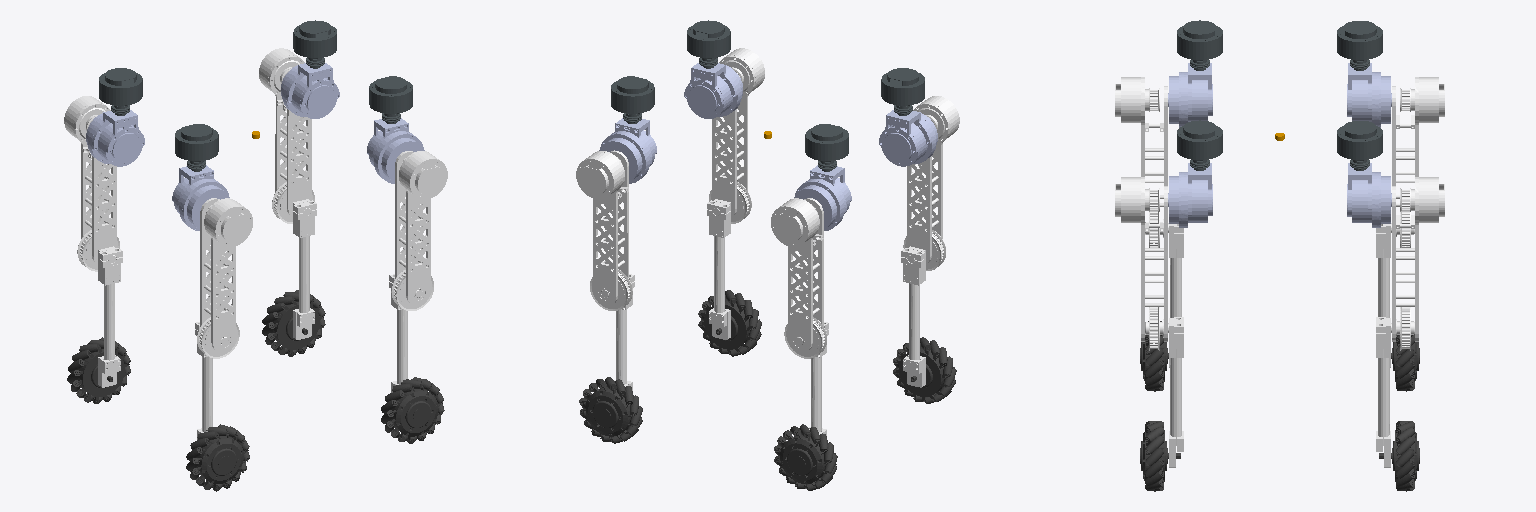
--- Render facts (derived) ---
The picture shows the robot from 3 angles, left to right: view 1: azimuth 30°, elevation 25°; view 2: azimuth 150°, elevation 25°; view 3: azimuth 270°, elevation 25°; orthographic projection.
Model wheelleg with 22 links and 21 joints (12 revolute, 4 continuous, 5 fixed), rooted at base, posed every joint at zero.
Links seen in each view (by area): view 1: RH_hp2, RF_hp2, LF_hp2, LH_hp2, RH_w, RF_w, LF_hp1, LH_hp1, LF_w, LH_w, LH_k, LF_k (+8 smaller); view 2: LH_hp2, LF_hp2, RF_hp2, RH_hp2, LF_w, LH_w, RF_hp1, RH_hp1, RF_w, RH_w, RH_k, RF_k (+8 smaller); view 3: LF_hp2, RF_hp2, LH_hp2, RH_hp2, LF_hp1, RF_hp1, LH_hp1, RH_hp1, LF_k, RF_k, RF_hr, RH_hr (+8 smaller).
Boxes of the visible links, x1,y1,x2,y2 form: RH_hp2: (197, 198, 252, 358); RF_hp2: (391, 151, 447, 310); LF_hp2: (259, 48, 314, 223); LH_hp2: (64, 96, 119, 271); RH_w: (186, 424, 249, 491); RF_w: (381, 377, 444, 443); LF_hp1: (281, 63, 339, 118); LH_hp1: (86, 110, 144, 166); LF_w: (262, 290, 325, 356); LH_w: (67, 337, 130, 403); LH_k: (98, 246, 122, 387); LF_k: (293, 199, 316, 339); LH_hp2: (771, 198, 826, 358); LF_hp2: (576, 150, 632, 310); RF_hp2: (709, 48, 764, 223); RH_hp2: (903, 96, 959, 270); LF_w: (579, 377, 642, 443); LH_w: (774, 424, 837, 490); RF_hp1: (684, 63, 742, 118); RH_hp1: (879, 110, 937, 166); RF_w: (698, 290, 761, 356); RH_w: (893, 337, 956, 403); RH_k: (901, 246, 925, 387); RF_k: (707, 199, 730, 339); LF_hp2: (1391, 177, 1444, 350); RF_hp2: (1115, 177, 1168, 350); LH_hp2: (1391, 77, 1444, 247); RH_hp2: (1115, 77, 1168, 247); LF_hp1: (1347, 163, 1391, 227); RF_hp1: (1168, 163, 1212, 227); LH_hp1: (1347, 63, 1391, 127); RH_hp1: (1168, 63, 1212, 127); LF_k: (1376, 317, 1390, 467); RF_k: (1169, 317, 1183, 467); RF_hr: (1177, 120, 1222, 170); RH_hr: (1177, 20, 1222, 70).
Bounding box of the posed robot: 0.6534 × 0.6995 × 0.8457 m (x, y, z).
Meshes: 11 distinct files referenced, 20 mesh visuals loaded (10 binary STL); not drawn: 1 (reference not matched to a file when rendering).

URDF robot description (wheelleg):
<?xml version="1.0" encoding="utf-8"?>
<!-- This URDF was automatically created by SolidWorks to URDF Exporter! Originally created by Stephen Brawner ([email redacted]) 
     Commit Version: 1.6.0-4-g7f85cfe  Build Version: 1.6.7995.38578
     For more information, please see http://wiki.ros.org/sw_urdf_exporter -->
<robot
  name="wheelleg">
  

  <!-- Body -->

  <link name="base">
			<visual>
				<geometry>
					<cylinder length="0.01" radius="0.01"/>
				</geometry>
			</visual>
		</link>

  <joint name="floating_base" type="fixed">
			<origin xyz="0 0 0" rpy="0 0 0"/>
			<parent link="base"/>
			<child link="base_link"/>
		</joint>


  <link
    name="base_link">
    <inertial>
      <origin
        xyz="-0.031757 0.00040855 0.053605"
        rpy="0.10472 0 0" />
      <mass
        value="5.462" />
      <inertia
	        ixx="0.045255813"
            ixy="-0.001482582"
            ixz="0.001451185"
            iyy="0.174493725"
            iyz="-0.000661239"
            izz="0.168306918"/>
    </inertial>
    <visual>
      <origin
        xyz="0 0 0"
        rpy="0 0 0" />
      <geometry>
        <mesh
          filename="package://wheelleg_description_ver15/meshes/base_link.STL" />
      </geometry>
      <material
        name="">
        <color
          rgba="0.7451 0.73725 0.72941 1" />
      </material>
    </visual>
    <collision>
      <origin
        xyz="0 0 0"
        rpy="0 0 0" />
      <geometry>
        <mesh
          filename="package://wheelleg_description_ver15/meshes/base_link.STL" />
      </geometry>
    </collision>
  </link>


  <!-- LF (Left Front leg) -->

  <link
    name="LF_hr">
    <inertial>
      <origin
        xyz="-0.00064 -0.00902 -0.02338"
        rpy="0 0 0" />
      <mass
        value="1.262" />
      <inertia
        ixx="0.002145988"
        ixy="0.000001667"
        ixz="7.52E-07"
        iyy="0.00149516"
        iyz="-0.000381063"
        izz="0.001987437" />
    </inertial>
    <visual>
      <origin
        xyz="0 0 0"
        rpy="0 0 0" />
      <geometry>
        <mesh
          filename="package://wheelleg_description_ver15/meshes/LF_hr.STL" />
      </geometry>
      <material
        name="">
        <color
          rgba="0.352941176470588 0.384313725490196 0.4 1" />
      </material>
    </visual>
    <collision>
      <origin
        xyz="0 0 0"
        rpy="0 0 0" />
      <geometry>
        <mesh
          filename="package://wheelleg_description_ver15/meshes/LF_hr.STL" />
      </geometry>
    </collision>
  </link>
  <joint
    name="LF_hr_joint"
    type="revolute">
    <origin
      xyz="0.25142 0.170 0.0660"
      rpy="0 3.1416 0" />
    <parent
      link="base_link" />
    <child
      link="LF_hr" />
    <axis
      xyz="0 0 1" />
    <limit
      lower="-1.57"
      upper="1.57"
      effort="48.0"
      velocity="5.0" />
  </joint>
  <link
    name="LF_hp1">
    <inertial>
      <origin
        xyz="0.00424 0 -0.07862"
        rpy="3.1416 0 0" />
      <mass
        value="2.017" />
      <inertia
        ixx="0.002812305"
        ixy="-0.000001194"
        ixz="-0.000001182"
        iyy="0.003113101"
        iyz="0.000222405"
        izz="0.002478391" />
    </inertial>
    <visual>
      <origin
        xyz="0 0 0"
        rpy="0 0 0" />
      <geometry>
        <mesh
          filename="package://wheelleg_description_ver15/meshes/LF_hp1.STL" />
      </geometry>
      <material
        name="">
        <color
          rgba="0.792156862745098 0.819607843137255 0.933333333333333 1" />
      </material>
    </visual>
    <collision>
      <origin
        xyz="0 0 0"
        rpy="0 0 0" />
      <geometry>
        <mesh
          filename="package://wheelleg_description_ver15/meshes/LF_hp1.STL" />
      </geometry>
    </collision>
  </link>
  <joint
    name="LF_hp1_joint"
    type="fixed">
    <origin
      xyz="0 0.06785 0.0975"
      rpy="-1.5708 -1.5708 0" />
    <parent
      link="LF_hr" />
    <child
      link="LF_hp1" />
  </joint>
  <link
    name="LF_hp2">
    <inertial>
      <origin
        xyz="0.12288 -0.000057 0.04567"
        rpy="3.1416 1.57 -0.12083" />
      <mass
        value="2.510" />
      <inertia
        ixx="0.046167112"
        ixy="0.000008451"
        ixz="0.000065646"
        iyy="0.044879746"
        iyz="-0.005843479"
        izz="0.003323929" />
    </inertial>
    <visual>
      <origin
        xyz="0 0 0"
        rpy="0 0 0" />
      <geometry>
        <mesh
          filename="package://wheelleg_description_ver15/meshes/LF_hp2.STL" />
      </geometry>
      <material
        name="">
        <color
          rgba="0.996078431372549 0.996078431372549 1 1" />
      </material>
    </visual>
    <collision>
      <origin
        xyz="0 0 0"
        rpy="0 0 0" />
      <geometry>
        <mesh
          filename="package://wheelleg_description_ver15/meshes/LF_hp2.STL" />
      </geometry>
    </collision>
  </link>
  <joint
    name="LF_hp2_joint"
    type="revolute">
    <origin
      xyz="0 0 0"
      rpy="0 0 0" />
    <parent
      link="LF_hp1" />
    <child
      link="LF_hp2" />
    <axis
      xyz="0 0 1" />
    <limit
      lower="-2.0944"
      upper="2.0944"
      effort="76.8"
      velocity="5.0" />
  </joint>
  <link
    name="LF_k">
    <inertial>
      <origin
        xyz="0.12603 -0.00006 0.04368"
        rpy="3.1416 1.57 0" />
      <mass
        value="0.377" />
      <inertia
        ixx="0.005710257"
        ixy="-1.64E-07"
        ixz="0.000006887"
        iyy="0.00573476"
        iyz="0.000095835"
        izz="0.000092113" />
    </inertial>
    <visual>
      <origin
        xyz="0 0 0"
        rpy="0 0 0" />
      <geometry>
        <mesh
          filename="package://wheelleg_description_ver15/meshes/LF_k.STL" />
      </geometry>
      <material
        name="">
        <color
          rgba="0.996078431372549 0.996078431372549 1 1" />
      </material>
    </visual>
    <collision>
      <origin
        xyz="0 0 0"
        rpy="0 0 0" />
      <geometry>
        <mesh
          filename="package://wheelleg_description_ver15/meshes/LF_k.STL" />
      </geometry>
    </collision>
  </link>
  <joint
    name="LF_k_joint"
    type="revolute">
    <origin
      xyz="0.3 0 0.029"
      rpy="3.1416 0 0" />
    <parent
      link="LF_hp2" />
    <child
      link="LF_k" />
    <axis
      xyz="0 0 1" />
    <limit
      lower="-2.4434"
      upper="2.4434"
      effort="48"
      velocity="5.0" />
  </joint>
  <link
    name="LF_w">
    <inertial>
      <origin
        xyz="0.00004 -0.00008 0.00188"
        rpy="1.57 0 0.7854" />
      <mass
        value="1.608" />
      <inertia
        ixx="0.002039438"
        ixy="-0.000002629"
        ixz="-9E-09"
        iyy="0.003524325"
        iyz="0.000001415"
        izz="0.002039435" />
    </inertial>
    <visual>
      <origin
        xyz="0 0 0"
        rpy="0 0 0" />
      <geometry>
        <mesh
          filename="package://wheelleg_description_ver15/meshes/LF_w.STL" />
      </geometry>
      <material
        name="">
        <color
          rgba="0.313725490196078 0.313725490196078 0.313725490196078 1" />
      </material>
    </visual>
    <collision>
      <origin
        xyz="0 0 0"
        rpy="0 0 0" />
      <geometry>
        <mesh
          filename="package://wheelleg_description_ver15/meshes/LF_w.STL" />
      </geometry>
    </collision>
  </link>
  <joint
    name="LF_w_joint"
    type="continuous">
    <origin
      xyz="0.3 0 0"
      rpy="3.1416 0 0" />
    <parent
      link="LF_k" />
    <child
      link="LF_w" />
    <axis
      xyz="0 0 1" />
  </joint>


  <!-- RF (Right Front leg) -->

  <link
    name="RF_hr">
    <inertial>
      <origin
        xyz="0.00064 0.00902 -0.02338"
        rpy="0 0 0" />
      <mass
        value="1.262" />
      <inertia
        ixx="0.002145988"
        ixy="0.000001667"
        ixz="-7.52E-07"
        iyy="0.00149516"
        iyz="0.000381063"
        izz="0.001987437" />
    </inertial>
    <visual>
      <origin
        xyz="0 0 0"
        rpy="0 0 0" />
      <geometry>
        <mesh
          filename="package://wheelleg_description_ver15/meshes/RF_hr.STL" />
      </geometry>
      <material
        name="">
        <color
          rgba="0.352941176470588 0.384313725490196 0.4 1" />
      </material>
    </visual>
    <collision>
      <origin
        xyz="0 0 0"
        rpy="0 0 0" />
      <geometry>
        <mesh
          filename="package://wheelleg_description_ver15/meshes/RF_hr.STL" />
      </geometry>
    </collision>
  </link>
  <joint
    name="RF_hr_joint"
    type="revolute">
    <origin
      xyz="0.25142 -0.170 0.0660"
      rpy="0 3.1416 0" />
    <parent
      link="base_link" />
    <child
      link="RF_hr" />
    <axis
      xyz="0 0 1" />
    <limit
      lower="-1.57"
      upper="1.57"
      effort="48"
      velocity="5.0" />
  </joint>
  <link
    name="RF_hp1">
    <inertial>
      <origin
        xyz="0.00424 0 0.07862"
        rpy="3.1416 0 0" />
      <mass
        value="2.017" />
      <inertia
        ixx="0.002812305"
        ixy="-0.000001194"
        ixz="0.000001182"
        iyy="0.003113101"
        iyz="-0.000222405"
        izz="0.002478391" />
    </inertial>
    <visual>
      <origin
        xyz="0 0 0"
        rpy="0 0 0" />
      <geometry>
        <mesh
          filename="package://wheelleg_description_ver15/meshes/RF_hp1.STL" />
      </geometry>
      <material
        name="">
        <color
          rgba="0.792156862745098 0.819607843137255 0.933333333333333 1" />
      </material>
    </visual>
    <collision>
      <origin
        xyz="0 0 0"
        rpy="0 0 0" />
      <geometry>
        <mesh
          filename="package://wheelleg_description_ver15/meshes/RF_hp1.STL" />
      </geometry>
    </collision>
  </link>
  <joint
    name="RF_hp1_joint"
    type="fixed">
    <origin
      xyz="0 -0.06785 0.0975"
      rpy="-1.5708 -1.5708 0" />
    <parent
      link="RF_hr" />
    <child
      link="RF_hp1" />
  </joint>
  <link
    name="RF_hp2">
    <inertial>
      <origin
        xyz="0.12288 -0.000057 -0.04567"
        rpy="3.1416 1.57 0.12083" />
      <mass
        value="2.510" />
      <inertia
        ixx="0.046167112"
        ixy="-0.000008451"
        ixz="0.000065646"
        iyy="0.044879746"
        iyz="0.005843479"
        izz="0.003323929" />
    </inertial>
    <visual>
      <origin
        xyz="0 0 0"
        rpy="0 0 0" />
      <geometry>
        <mesh
          filename="package://wheelleg_description_ver15/meshes/RF_hp2.STL" />
      </geometry>
      <material
        name="">
        <color
          rgba="0.996078431372549 0.996078431372549 1 1" />
      </material>
    </visual>
    <collision>
      <origin
        xyz="0 0 0"
        rpy="0 0 0" />
      <geometry>
        <mesh
          filename="package://wheelleg_description_ver15/meshes/RF_hp2.STL" />
      </geometry>
    </collision>
  </link>
  <joint
    name="RF_hp2_joint"
    type="revolute">
    <origin
      xyz="0 0 0"
      rpy="0 0 0" />
    <parent
      link="RF_hp1" />
    <child
      link="RF_hp2" />
    <axis
      xyz="0 0 1" />
    <limit
      lower="-2.0944"
      upper="2.0944"
      effort="76.8"
      velocity="5.0" />
  </joint>
  <link
    name="RF_k">
    <inertial>
      <origin
        xyz="0.12603 0.00006 -0.04368"
        rpy="3.1416 1.57 0" />
      <mass
        value="0.377" />
      <inertia
        ixx="0.005710257"
        ixy="1.64E-07"
        ixz="0.000006887"
        iyy="0.00573476"
        iyz="-0.000095835"
        izz="0.000092113" />
    </inertial>
    <visual>
      <origin
        xyz="0 0 0"
        rpy="0 0 0" />
      <geometry>
        <mesh
          filename="package://wheelleg_description_ver15/meshes/RF_k.STL" />
      </geometry>
      <material
        name="">
        <color
          rgba="0.996078431372549 0.996078431372549 1 1" />
      </material>
    </visual>
    <collision>
      <origin
        xyz="0 0 0"
        rpy="0 0 0" />
      <geometry>
        <mesh
          filename="package://wheelleg_description_ver15/meshes/RF_k.STL" />
      </geometry>
    </collision>
  </link>
  <joint
    name="RF_k_joint"
    type="revolute">
    <origin
      xyz="0.3 0 -0.029"
      rpy="3.1416 0 0" />
    <parent
      link="RF_hp2" />
    <child
      link="RF_k" />
    <axis
      xyz="0 0 1" />
    <limit
      lower="-2.4434"
      upper="2.4434"
      effort="48"
      velocity="5.0" />
  </joint>
  <link
    name="RF_w">
    <inertial>
      <origin
        xyz="0.00004 0.00008 -0.00188"
        rpy="1.57 0 0.7854" />
      <mass
        value="1.608" />
      <inertia
        ixx="0.002039438"
        ixy="-0.000002629"
        ixz="9E-09"
        iyy="0.003524325"
        iyz="0.000001415"
        izz="0.002039435" />
    </inertial>
    <visual>
      <origin
        xyz="0 0 0"
        rpy="0 0 0" />
      <geometry>
        <mesh
          filename="package://wheelleg_description_ver15/meshes/RF_w.STL" />
      </geometry>
      <material
        name="">
        <color
          rgba="0.313725490196078 0.313725490196078 0.313725490196078 1" />
      </material>
    </visual>
    <collision>
      <origin
        xyz="0 0 0"
        rpy="0 0 0" />
      <geometry>
        <mesh
          filename="package://wheelleg_description_ver15/meshes/RF_w.STL" />
      </geometry>
    </collision>
  </link>
  <joint
    name="RF_w_joint"
    type="continuous">
    <origin
      xyz="0.3 0 0"
      rpy="3.1416 0 0" />
    <parent
      link="RF_k" />
    <child
      link="RF_w" />
    <axis
      xyz="0 0 1" />
  </joint>


  <!-- LH (Left Hind leg) -->

  <link
    name="LH_hr">
    <inertial>
      <origin
        xyz="-0.00064 -0.00902 -0.02338"
        rpy="0 0 0" />
      <mass
        value="1.262" />
      <inertia
        ixx="0.002145988"
        ixy="0.000001667"
        ixz="7.52E-07"
        iyy="0.00149516"
        iyz="-0.000381063"
        izz="0.001987437" />
    </inertial>
    <visual>
      <origin
        xyz="0 0 0"
        rpy="0 0 0" />
      <geometry>
        <mesh
          filename="package://wheelleg_description_ver15/meshes/LF_hr.STL" />
      </geometry>
      <material
        name="">
        <color
          rgba="0.352941176470588 0.384313725490196 0.4 1" />
      </material>
    </visual>
    <collision>
      <origin
        xyz="0 0 0"
        rpy="0 0 0" />
      <geometry>
        <mesh
          filename="package://wheelleg_description_ver15/meshes/LF_hr.STL" />
      </geometry>
    </collision>
  </link>
  <joint
    name="LH_hr_joint"
    type="revolute">
    <origin
      xyz="-0.25142 0.170 0.0660"
      rpy="0 3.1416 0" />
    <parent
      link="base_link" />
    <child
      link="LH_hr" />
    <axis
      xyz="0 0 1" />
    <limit
      lower="-1.57"
      upper="1.57"
      effort="48.0"
      velocity="5.0" />
  </joint>
  <link
    name="LH_hp1">
    <inertial>
      <origin
        xyz="0.00424 0 -0.07862"
        rpy="3.1416 0 0" />
      <mass
        value="2.017" />
      <inertia
        ixx="0.002812305"
        ixy="-0.000001194"
        ixz="-0.000001182"
        iyy="0.003113101"
        iyz="0.000222405"
        izz="0.002478391" />
    </inertial>
    <visual>
      <origin
        xyz="0 0 0"
        rpy="0 0 0" />
      <geometry>
        <mesh
          filename="package://wheelleg_description_ver15/meshes/LF_hp1.STL" />
      </geometry>
      <material
        name="">
        <color
          rgba="0.792156862745098 0.819607843137255 0.933333333333333 1" />
      </material>
    </visual>
    <collision>
      <origin
        xyz="0 0 0"
        rpy="0 0 0" />
      <geometry>
        <mesh
          filename="package://wheelleg_description_ver15/meshes/LF_hp1.STL" />
      </geometry>
    </collision>
  </link>
  <joint
    name="LH_hp1_joint"
    type="fixed">
    <origin
      xyz="0 0.06785 0.0975"
      rpy="-1.5708 -1.5708 0" />
    <parent
      link="LH_hr" />
    <child
      link="LH_hp1" />
  </joint>
  <link
    name="LH_hp2">
    <inertial>
      <origin
        xyz="0.12288 -0.000057 0.04567"
        rpy="3.1416 1.57 -0.12083" />
      <mass
        value="2.510" />
      <inertia
        ixx="0.046167112"
        ixy="0.000008451"
        ixz="0.000065646"
        iyy="0.044879746"
        iyz="-0.005843479"
        izz="0.003323929" />
    </inertial>
    <visual>
      <origin
        xyz="0 0 0"
        rpy="0 0 0" />
      <geometry>
        <mesh
          filename="package://wheelleg_description_ver15/meshes/LF_hp2.STL" />
      </geometry>
      <material
        name="">
        <color
          rgba="0.996078431372549 0.996078431372549 1 1" />
      </material>
    </visual>
    <collision>
      <origin
        xyz="0 0 0"
        rpy="0 0 0" />
      <geometry>
        <mesh
          filename="package://wheelleg_description_ver15/meshes/LF_hp2.STL" />
      </geometry>
    </collision>
  </link>
  <joint
    name="LH_hp2_joint"
    type="revolute">
    <origin
      xyz="0 0 0"
      rpy="0 0 0" />
    <parent
      link="LH_hp1" />
    <child
      link="LH_hp2" />
    <axis
      xyz="0 0 1" />
    <limit
      lower="-2.0944"
      upper="2.0944"
      effort="76.8"
      velocity="5.0" />
  </joint>
  <link
    name="LH_k">
    <inertial>
      <origin
        xyz="0.12603 -0.00006 0.04368"
        rpy="3.1416 1.57 0" />
      <mass
        value="0.377" />
      <inertia
        ixx="0.005710257"
        ixy="-1.64E-07"
        ixz="0.000006887"
        iyy="0.00573476"
        iyz="0.000095835"
        izz="0.000092113" />
    </inertial>
    <visual>
      <origin
        xyz="0 0 0"
        rpy="0 0 0" />
      <geometry>
        <mesh
          filename="package://wheelleg_description_ver15/meshes/LF_k.STL" />
      </geometry>
      <material
        name="">
        <color
          rgba="0.996078431372549 0.996078431372549 1 1" />
      </material>
    </visual>
    <collision>
      <origin
        xyz="0 0 0"
        rpy="0 0 0" />
      <geometry>
        <mesh
          filename="package://wheelleg_description_ver15/meshes/LF_k.STL" />
      </geometry>
    </collision>
  </link>
  <joint
    name="LH_k_joint"
    type="revolute">
    <origin
      xyz="0.3 0 0.029"
      rpy="3.1416 0 0" />
    <parent
      link="LH_hp2" />
    <child
      link="LH_k" />
    <axis
      xyz="0 0 1" />
    <limit
      lower="-2.4434"
      upper="2.4434"
      effort="48"
      velocity="5.0" />
  </joint>
  <link
    name="LH_w">
    <inertial>
      <origin
        xyz="0.00004 -0.00008 0.00188"
        rpy="1.57 0 0.7854" />
      <mass
        value="1.608" />
      <inertia
        ixx="0.002039438"
        ixy="-0.000002629"
        ixz="-9E-09"
        iyy="0.003524325"
        iyz="0.000001415"
        izz="0.002039435" />
    </inertial>
    <visual>
      <origin
        xyz="0 0 0"
        rpy="0 0 0" />
      <geometry>
        <mesh
          filename="package://wheelleg_description_ver15/meshes/LF_w.STL" />
      </geometry>
      <material
        name="">
        <color
          rgba="0.313725490196078 0.313725490196078 0.313725490196078 1" />
      </material>
    </visual>
    <collision>
      <origin
        xyz="0 0 0"
        rpy="0 0 0" />
      <geometry>
        <mesh
          filename="package://wheelleg_description_ver15/meshes/LF_w.STL" />
      </geometry>
    </collision>
  </link>
  <joint
    name="LH_w_joint"
    type="continuous">
    <origin
      xyz="0.3 0 0"
      rpy="3.1416 0 0" />
    <parent
      link="LH_k" />
    <child
      link="LH_w" />
    <axis
      xyz="0 0 1" />
  </joint>


  <!-- RH (Right Hind leg) -->

  <link
    name="RH_hr">
    <inertial>
      <origin
        xyz="0.00064 0.00902 -0.02338"
        rpy="0 0 0" />
      <mass
        value="1.262" />
      <inertia
        ixx="0.002145988"
        ixy="0.000001667"
        ixz="-7.52E-07"
        iyy="0.00149516"
        iyz="0.000381063"
        izz="0.001987437" />
    </inertial>
    <visual>
      <origin
        xyz="0 0 0"
        rpy="0 0 0" />
      <geometry>
        <mesh
          filename="package://wheelleg_description_ver15/meshes/RF_hr.STL" />
      </geometry>
      <material
        name="">
        <color
          rgba="0.352941176470588 0.384313725490196 0.4 1" />
      </material>
    </visual>
    <collision>
      <origin
        xyz="0 0 0"
        rpy="0 0 0" />
      <geometry>
        <mesh
          filename="package://wheelleg_description_ver15/meshes/RF_hr.STL" />
      </geometry>
    </collision>
  </link>
  <joint
    name="RH_hr_joint"
    type="revolute">
    <origin
      xyz="-0.25142 -0.170 0.0660"
      rpy="0 3.1416 0" />
    <parent
      link="base_link" />
    <child
      link="RH_hr" />
    <axis
      xyz="0 0 1" />
    <limit
      lower="-1.57"
      upper="1.57"
      effort="48"
      velocity="5.0" />
  </joint>
  <link
    name="RH_hp1">
    <inertial>
      <origin
        xyz="0.00424 0 0.07862"
        rpy="3.1416 0 0" />
      <mass
        value="2.017" />
      <inertia
        ixx="0.002812305"
        ixy="-0.000001194"
        ixz="0.000001182"
        iyy="0.003113101"
        iyz="-0.000222405"
        izz="0.002478391" />
    </inertial>
    <visual>
      <origin
        xyz="0 0 0"
        rpy="0 0 0" />
      <geometry>
        <mesh
          filename="package://wheelleg_description_ver15/meshes/RF_hp1.STL" />
      </geometry>
      <material
        name="">
        <color
          rgba="0.792156862745098 0.819607843137255 0.933333333333333 1" />
      </material>
    </visual>
    <collision>
      <origin
        xyz="0 0 0"
        rpy="0 0 0" />
      <geometry>
        <mesh
          filename="package://wheelleg_description_ver15/meshes/RF_hp1.STL" />
      </geometry>
    </collision>
  </link>
  <joint
    name="RH_hp1_joint"
    type="fixed">
    <origin
      xyz="0 -0.06785 0.0975"
      rpy="-1.5708 -1.5708 0" />
    <parent
      link="RH_hr" />
    <child
      link="RH_hp1" />
  </joint>
  <link
    name="RH_hp2">
    <inertial>
      <origin
        xyz="0.12288 -0.000057 -0.04567"
        rpy="3.1416 1.57 0.12083" />
      <mass
        value="2.510" />
      <inertia
        ixx="0.046167112"
        ixy="-0.000008451"
        ixz="0.000065646"
        iyy="0.044879746"
        iyz="0.005843479"
        izz="0.003323929" />
    </inertial>
    <visual>
      <origin
        xyz="0 0 0"
        rpy="0 0 0" />
      <geometry>
        <mesh
          filename="package://wheelleg_description_ver15/meshes/RF_hp2.STL" />
      </geometry>
      <material
        name="">
        <color
          rgba="0.996078431372549 0.996078431372549 1 1" />
      </material>
    </visual>
    <collision>
      <origin
        xyz="0 0 0"
        rpy="0 0 0" />
      <geometry>
        <mesh
          filename="package://wheelleg_description_ver15/meshes/RF_hp2.STL" />
      </geometry>
    </collision>
  </link>
  <joint
    name="RH_hp2_joint"
    type="revolute">
    <origin
      xyz="0 0 0"
      rpy="0 0 0" />
    <parent
      link="RH_hp1" />
    <child
      link="RH_hp2" />
    <axis
      xyz="0 0 1" />
    <limit
      lower="-2.0944"
      upper="2.0944"
      effort="76.8"
      velocity="5.0" />
  </joint>
  <link
    name="RH_k">
    <inertial>
      <origin
        xyz="0.12603 0.00006 -0.04368"
        rpy="3.1416 1.57 0" />
      <mass
        value="0.377" />
      <inertia
        ixx="0.005710257"
        ixy="1.64E-07"
        ixz="0.000006887"
        iyy="0.00573476"
        iyz="-0.000095835"
        izz="0.000092113" />
    </inertial>
    <visual>
      <origin
        xyz="0 0 0"
        rpy="0 0 0" />
      <geometry>
        <mesh
          filename="package://wheelleg_description_ver15/meshes/RF_k.STL" />
      </geometry>
      <material
        name="">
        <color
          rgba="0.996078431372549 0.996078431372549 1 1" />
      </material>
    </visual>
    <collision>
      <origin
        xyz="0 0 0"
        rpy="0 0 0" />
      <geometry>
        <mesh
          filename="package://wheelleg_description_ver15/meshes/RF_k.STL" />
      </geometry>
    </collision>
  </link>
  <joint
    name="RH_k_joint"
    type="revolute">
    <origin
      xyz="0.3 0 -0.029"
      rpy="3.1416 0 0" />
    <parent
      link="RH_hp2" />
    <child
      link="RH_k" />
    <axis
      xyz="0 0 1" />
    <limit
      lower="-2.4434"
      upper="2.4434"
      effort="48"
      velocity="5.0" />
  </joint>
  <link
    name="RH_w">
    <inertial>
      <origin
        xyz="0.00004 0.00008 -0.00188"
        rpy="1.57 0 0.7854" />
      <mass
        value="1.608" />
      <inertia
        ixx="0.002039438"
        ixy="-0.000002629"
        ixz="9E-09"
        iyy="0.003524325"
        iyz="0.000001415"
        izz="0.002039435" />
    </inertial>
    <visual>
      <origin
        xyz="0 0 0"
        rpy="0 0 0" />
      <geometry>
        <mesh
          filename="package://wheelleg_description_ver15/meshes/RF_w.STL" />
      </geometry>
      <material
        name="">
        <color
          rgba="0.313725490196078 0.313725490196078 0.313725490196078 1" />
      </material>
    </visual>
    <collision>
      <origin
        xyz="0 0 0"
        rpy="0 0 0" />
      <geometry>
        <mesh
          filename="package://wheelleg_description_ver15/meshes/RF_w.STL" />
      </geometry>
    </collision>
  </link>
  <joint
    name="RH_w_joint"
    type="continuous">
    <origin
      xyz="0.3 0 0"
      rpy="3.1416 0 0" />
    <parent
      link="RH_k" />
    <child
      link="RH_w" />
    <axis
      xyz="0 0 1" />
  </joint>

</robot>
